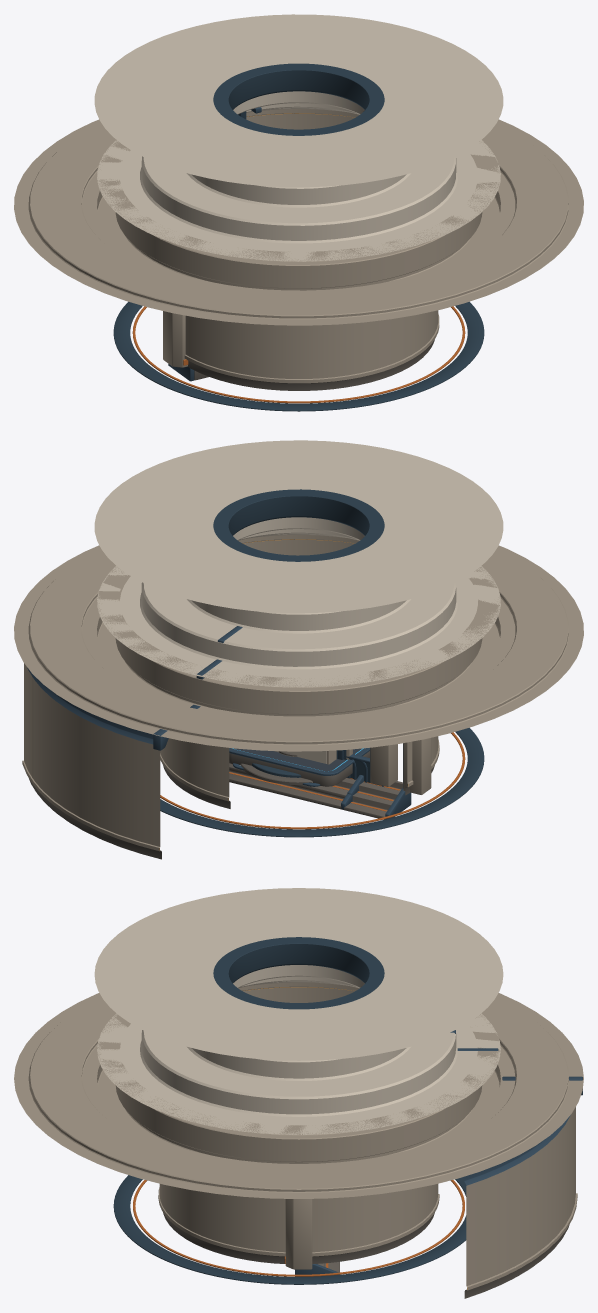
Rendered from Bunker2.fbx.
3 views of the same model, one above another, from view 1: azimuth 30°, elevation 25°; view 2: azimuth 150°, elevation 25°; view 3: azimuth 270°, elevation 25° (orthographic).
Parts seen in each view (by area): view 1: Dome_Shell, RingCeiling_Soffit, Drum_Body, RoomWall_R22_Wall, OculusRim_Rim, RotundaFloorRing_Band, RoomWall_R22_Plinth, RotundaFloorRing_Line, Portal_40_Jambs; view 2: Dome_Shell, RingCeiling_Soffit, Drum_Body, RingWall_528_Wall, OculusRim_Rim, RingWall_444_Wall, RotundaFloorRing_Band, RoomWall_R22_Wall, Steps_40_3_Body, Portal_40_Jambs, Steps_24_3_Body, Portal_28_Jambs (+7 smaller); view 3: Dome_Shell, RingCeiling_Soffit, Drum_Body, RoomWall_R22_Wall, RingWall_528_Wall, OculusRim_Rim, RotundaFloorRing_Band, RingWall_444_Wall, Portal_40_Jambs, RoomWall_R22_Plinth, RotundaFloorRing_Line, RingWall_528_Cornice (+1 smaller).
Part boxes in pixels (<box>): Dome_Shell: <box>94,14,503,261</box>; RingCeiling_Soffit: <box>14,119,583,325</box>; Drum_Body: <box>97,109,500,290</box>; RoomWall_R22_Wall: <box>184,310,439,383</box>; OculusRim_Rim: <box>213,63,384,135</box>; RotundaFloorRing_Band: <box>113,301,484,411</box>; RoomWall_R22_Plinth: <box>187,339,434,390</box>; RotundaFloorRing_Line: <box>132,306,465,403</box>; Portal_40_Jambs: <box>163,311,187,367</box>; Dome_Shell: <box>94,440,503,687</box>; RingCeiling_Soffit: <box>14,545,583,751</box>; Drum_Body: <box>97,535,500,716</box>; RingWall_528_Wall: <box>22,663,160,851</box>; OculusRim_Rim: <box>213,489,384,561</box>; RingWall_444_Wall: <box>30,677,159,847</box>; RotundaFloorRing_Band: <box>160,727,484,837</box>; RoomWall_R22_Wall: <box>160,736,439,801</box>; Steps_40_3_Body: <box>229,770,402,819</box>; Portal_40_Jambs: <box>403,738,431,794</box>; Steps_24_3_Body: <box>229,763,343,808</box>; Portal_28_Jambs: <box>370,744,397,786</box>; Dome_Shell: <box>94,888,503,1134</box>; RingCeiling_Soffit: <box>14,993,583,1198</box>; Drum_Body: <box>97,982,500,1163</box>; RoomWall_R22_Wall: <box>158,1184,439,1256</box>; RingWall_528_Wall: <box>466,1107,577,1290</box>; OculusRim_Rim: <box>213,937,384,1009</box>; RotundaFloorRing_Band: <box>113,1175,466,1284</box>; RingWall_444_Wall: <box>497,1109,576,1278</box>; Portal_40_Jambs: <box>285,1199,312,1269</box>; RoomWall_R22_Plinth: <box>163,1212,434,1263</box>; RotundaFloorRing_Line: <box>133,1180,464,1276</box>; RingWall_528_Cornice: <box>464,1118,568,1185</box>.
Bounding box in the file's own units: 89.2 × 45.62 × 89.2.
